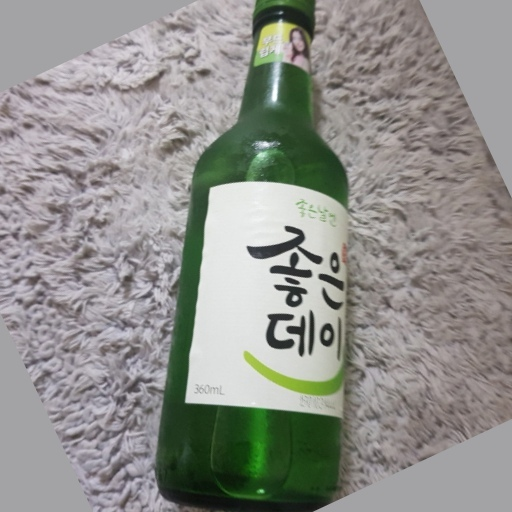Glass_0: (156, 1, 355, 505)
